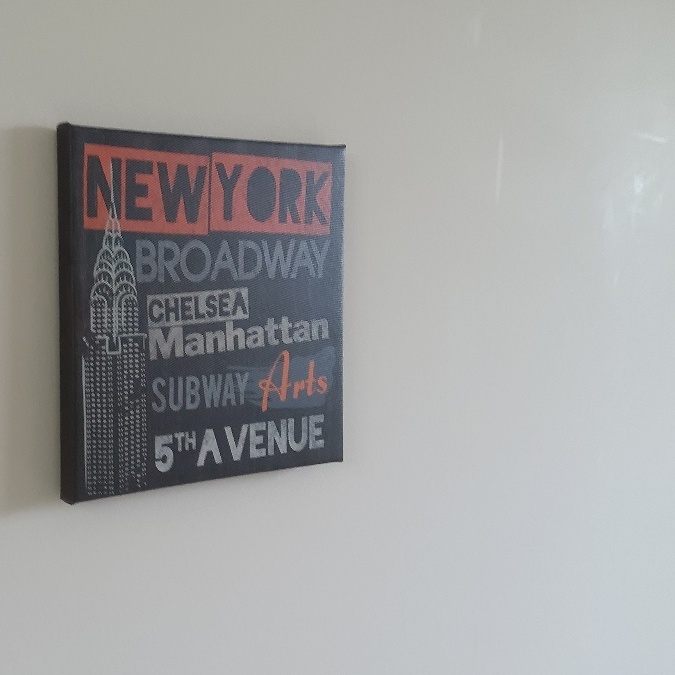poster: (60, 117, 351, 519)
